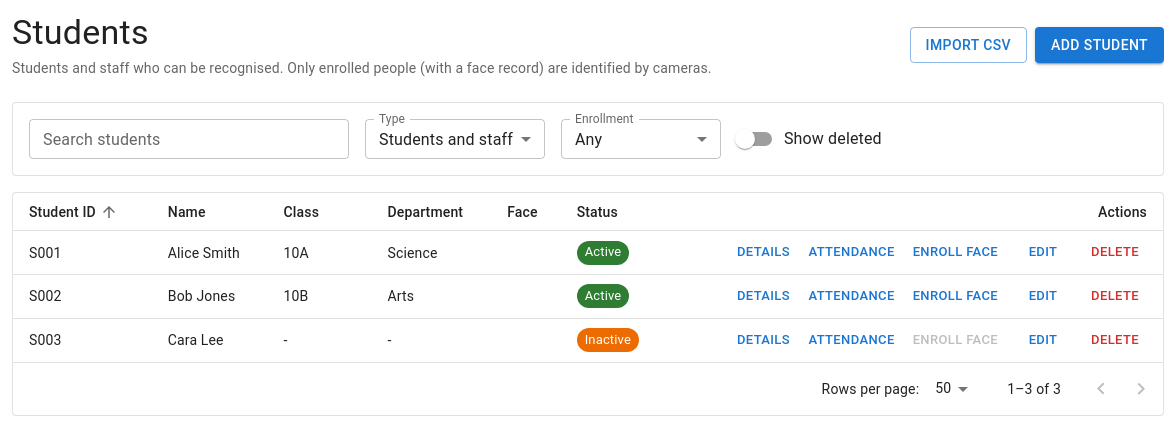
Test: list › search filters by name, student ID, class and department
Expected: the table named "Students" is shown, [13,193,1163,362]
Type "bob" into the field labelled "Search students".
click(189, 139); type("bob")  # box [29,119,349,159]
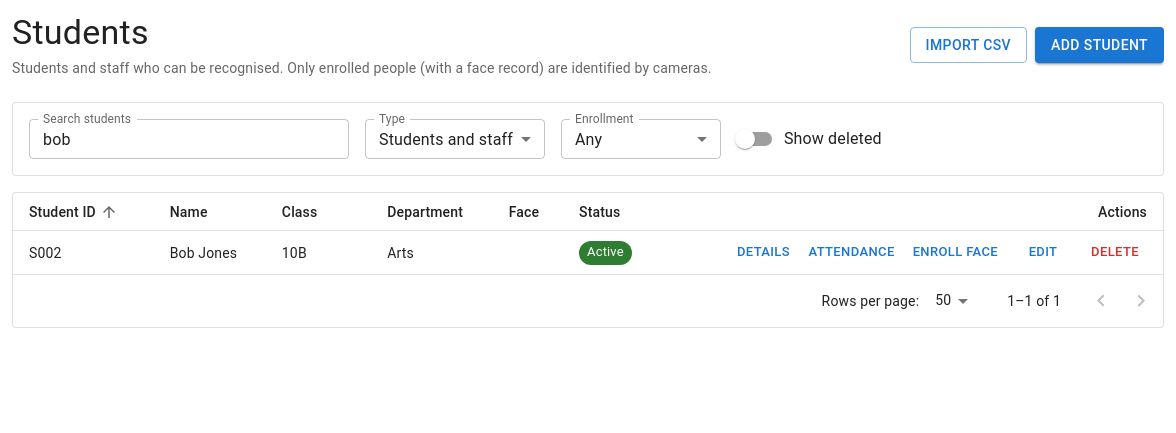
Replace the text in the field labelled "Search students" with "S001" at (189, 139), box [29,119,349,159]
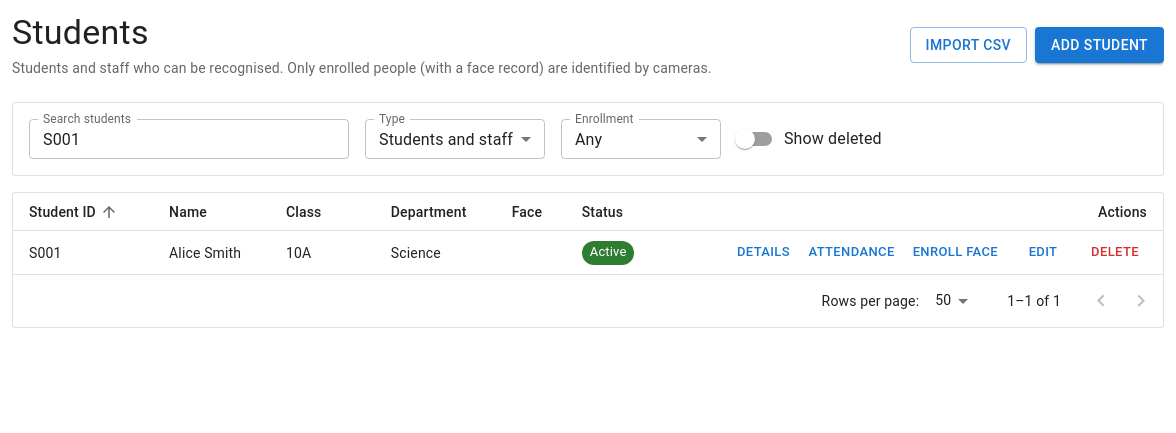
Replace the text in the field labelled "Search students" with "10" at (189, 139), box [29,119,349,159]
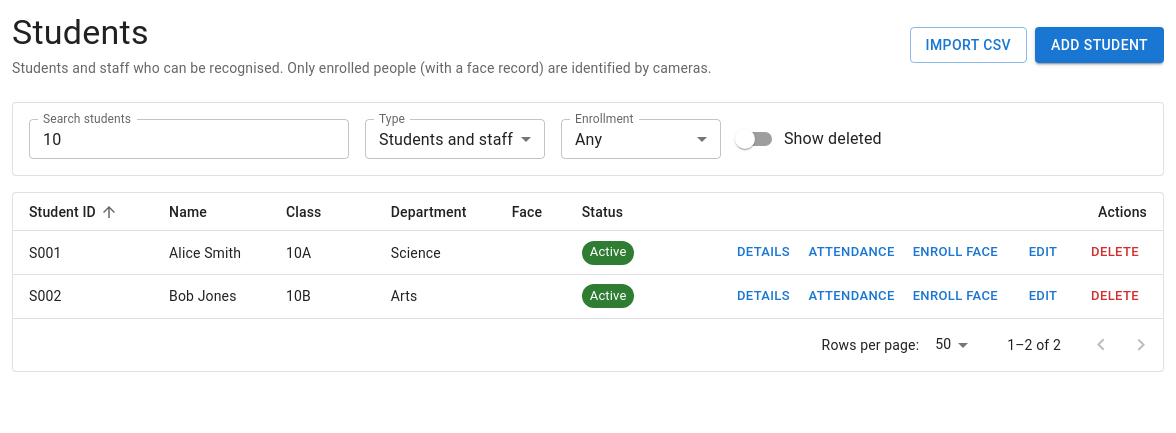
Replace the text in the field labelled "Search students" with "science" at (189, 139), box [29,119,349,159]
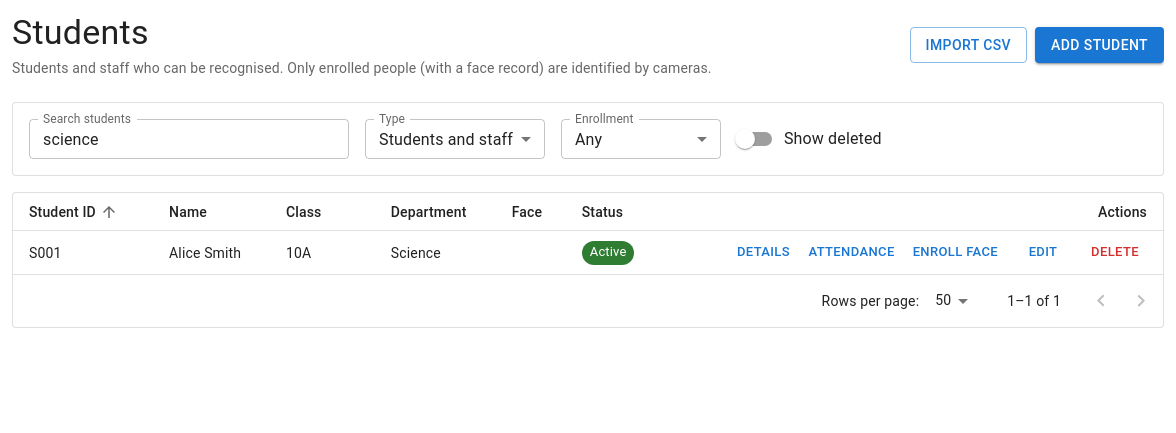
Replace the text in the field labelled "Search students" with "nobody" at (189, 139), box [29,119,349,159]
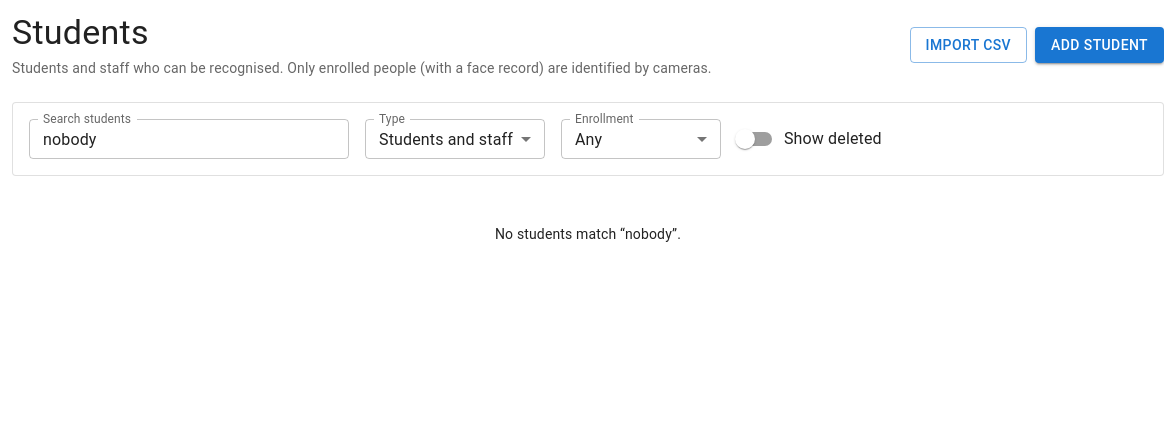
Result: the text "No students match “nobody”." is shown at [495,226,681,242]
